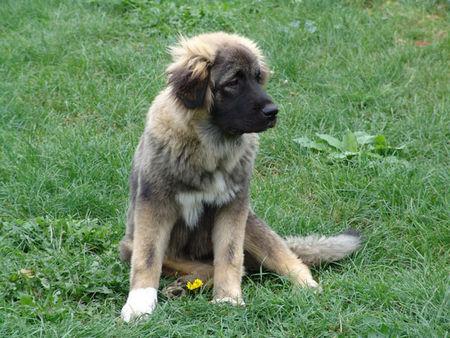cau_ovcharka: (118, 30, 362, 322)
